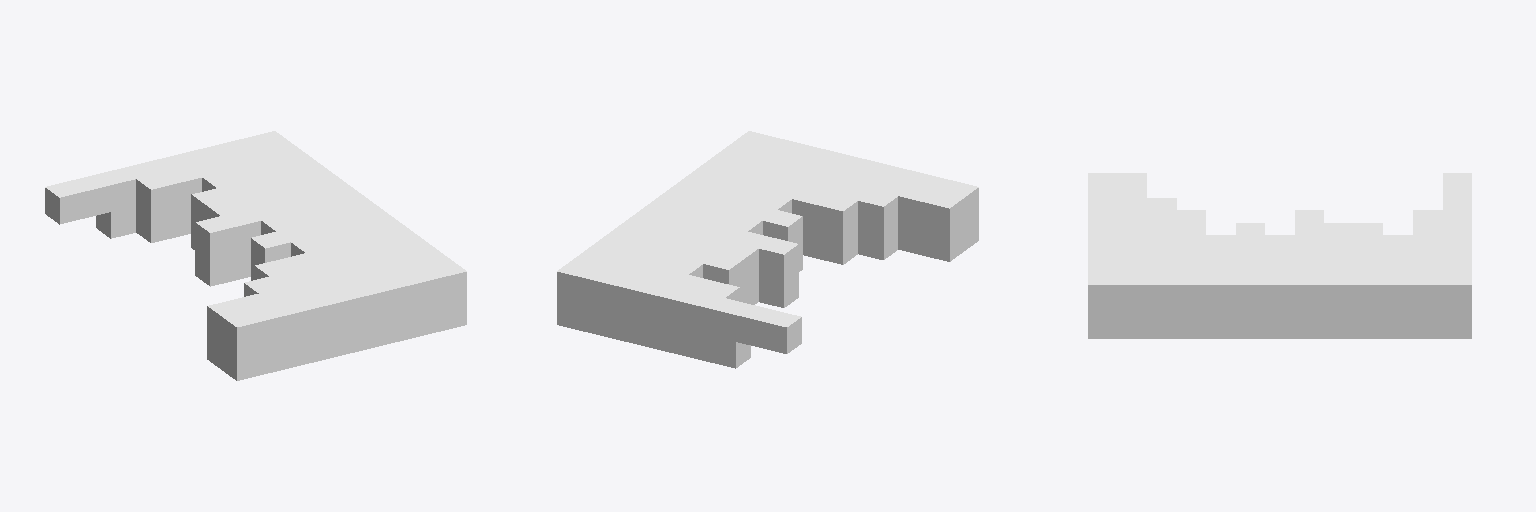
Rendered from BirdEnemy-2.obj.
3 renders of one model, left to right at view 1: azimuth 30°, elevation 25°; view 2: azimuth 150°, elevation 25°; view 3: azimuth 270°, elevation 25°, orthographic.
Parts seen in each view (by area): view 1: object 1; view 2: object 1; view 3: object 1.
Boxes of the visible parts, x1,y1,x2,y2 form: object 1: [45, 131, 466, 380]; object 1: [557, 131, 978, 368]; object 1: [1088, 173, 1471, 338].
Size of the model in its own units: 0.9 by 0.2 by 1.3.